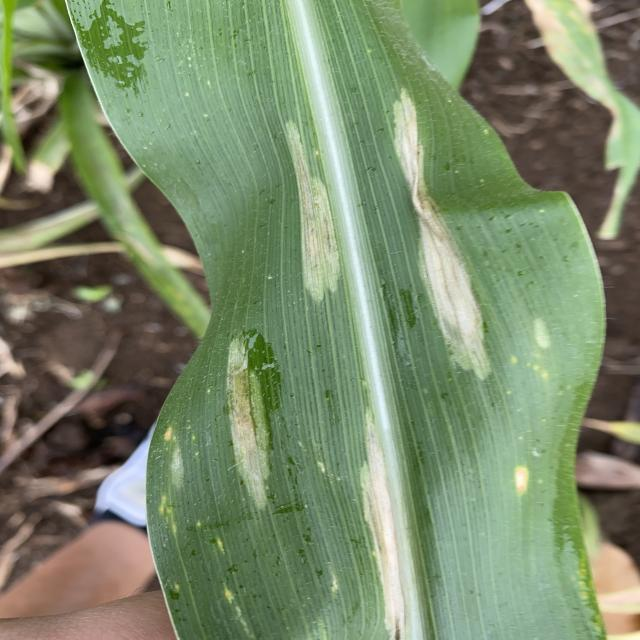Corn_Leaf_Blight: (139, 0, 609, 640)
